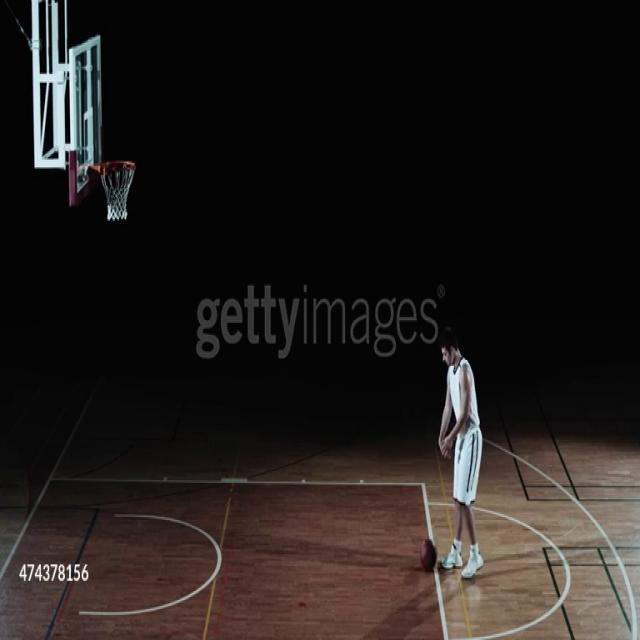ball: (420, 539, 437, 569)
